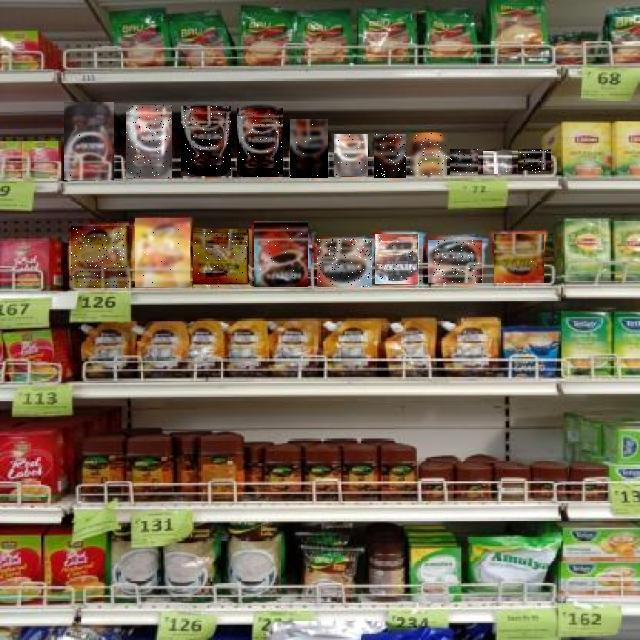Coffee: (64, 102, 114, 180), (135, 218, 190, 287), (71, 226, 129, 288), (254, 221, 308, 287), (181, 107, 231, 177), (194, 230, 252, 288), (126, 105, 172, 178), (237, 108, 283, 177), (317, 239, 372, 287), (494, 234, 544, 283), (429, 240, 483, 283), (376, 234, 422, 284), (290, 119, 328, 178), (410, 133, 447, 175), (335, 135, 369, 177), (374, 134, 406, 178), (518, 150, 551, 174), (451, 150, 479, 176), (483, 151, 512, 174)
